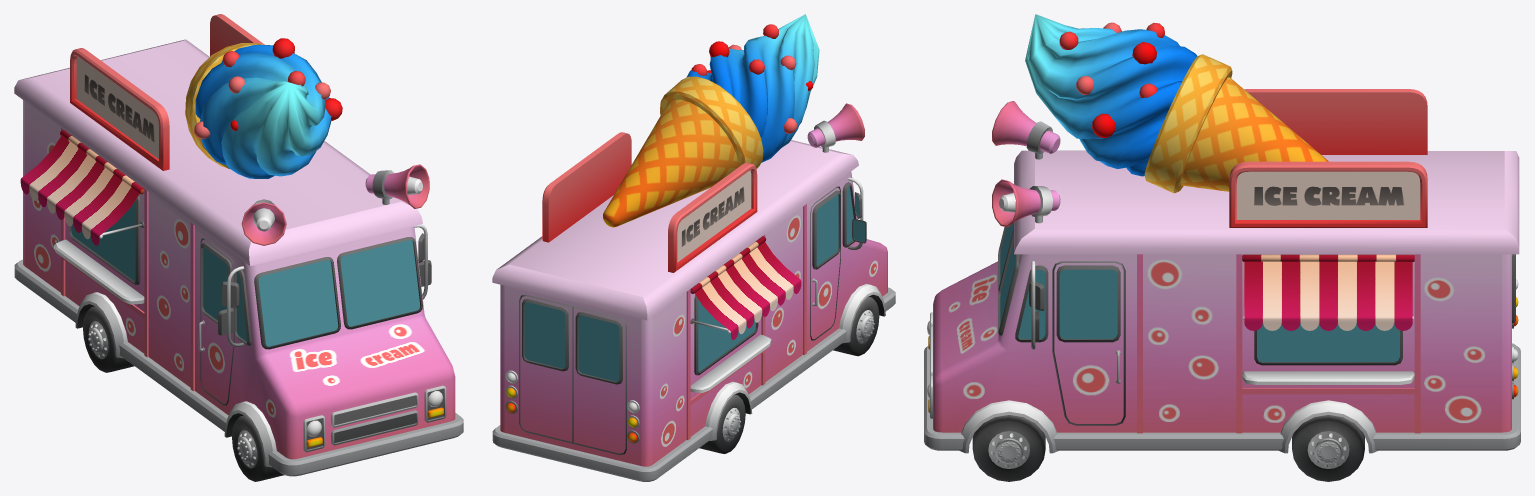
The model's file is ice_truck.fbx.
3 views of the same model, side by side, from view 1: azimuth 30°, elevation 25°; view 2: azimuth 150°, elevation 25°; view 3: azimuth 270°, elevation 25° (orthographic). The views are drawn at different scales.
Parts seen in each view (by area): view 1: Car_Ice; view 2: Car_Ice; view 3: Car_Ice.
Boxes of the visible parts, <box> form: Car_Ice: <box>14,14,463,481</box>; Car_Ice: <box>492,14,895,481</box>; Car_Ice: <box>924,14,1520,481</box>.
Bounding box in the file's own units: 3236 × 4478 × 6021.
